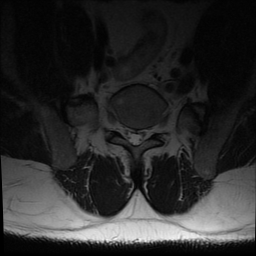CCS_normal: (132, 119, 140, 153)
LFS_normal: (147, 116, 157, 143)
LLS_normal: (140, 119, 147, 151)
RFS_normal: (118, 115, 126, 144)
RLS_normal: (126, 118, 133, 148)
